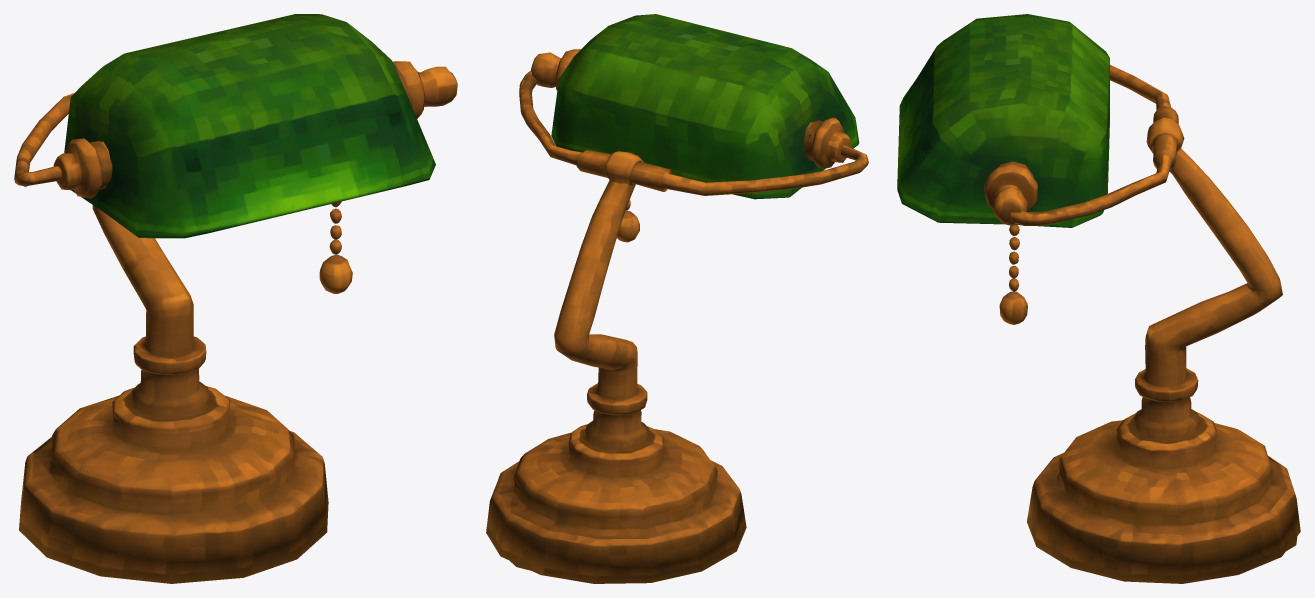
The model's file is bankers_lamp_parts.glb.
3 renders of one model, left to right at view 1: azimuth 30°, elevation 25°; view 2: azimuth 150°, elevation 25°; view 3: azimuth 270°, elevation 25°, orthographic. The views are drawn at different scales.
Parts seen in each view (by area): view 1: Body, Chain; view 2: Body, Chain; view 3: Body, Chain.
Boxes of the visible parts, bbox=[...] form: Body: bbox=[14, 14, 457, 583]; Chain: bbox=[319, 201, 352, 293]; Body: bbox=[486, 14, 868, 583]; Chain: bbox=[617, 200, 639, 242]; Body: bbox=[897, 14, 1300, 583]; Chain: bbox=[999, 225, 1027, 324].
Bounding box in the file's own units: 0.8199 × 1 × 0.7841.
1 material, 1 textured.
